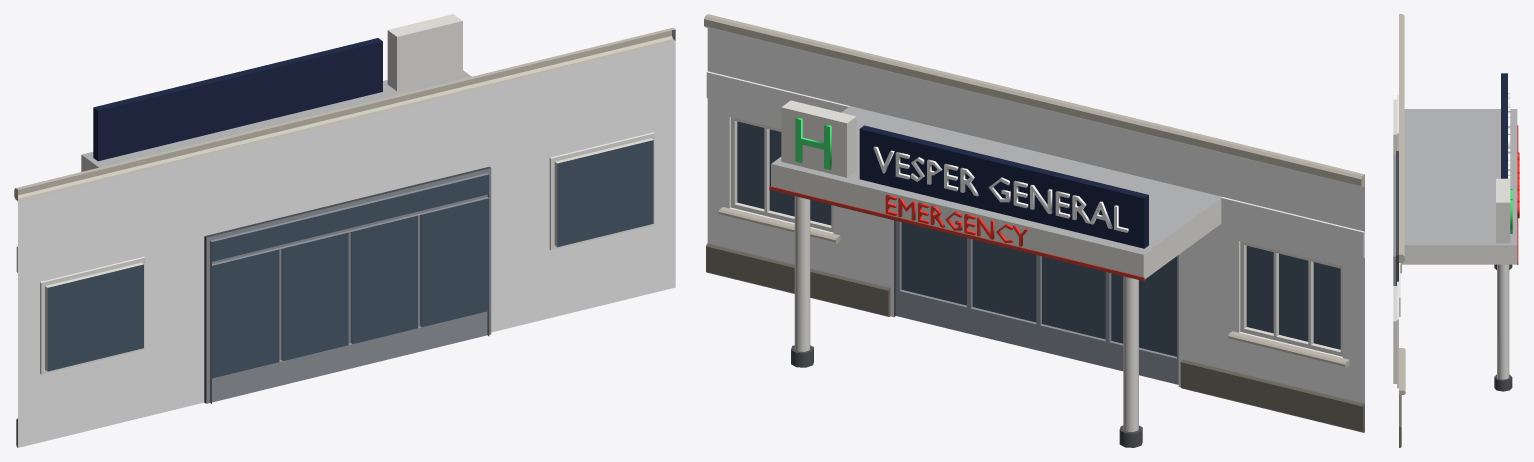
Rendered from front_hospital.glb.
The picture shows the model from 3 angles, left to right: view 1: azimuth 30°, elevation 25°; view 2: azimuth 150°, elevation 25°; view 3: azimuth 270°, elevation 25°; orthographic projection. The views are drawn at different scales.
Parts seen in each view (by area): view 1: front_hospital__mesh; view 2: front_hospital__mesh; view 3: front_hospital__mesh.
Boxes of the visible parts, x1,y1,x2,y2 form: front_hospital__mesh: (14,14,675,447); front_hospital__mesh: (704,14,1364,447); front_hospital__mesh: (1393,14,1519,447).
Size of what is drawn, in the model's own units: 12 by 4.5 by 2.67.
2 materials, 1 textured.
